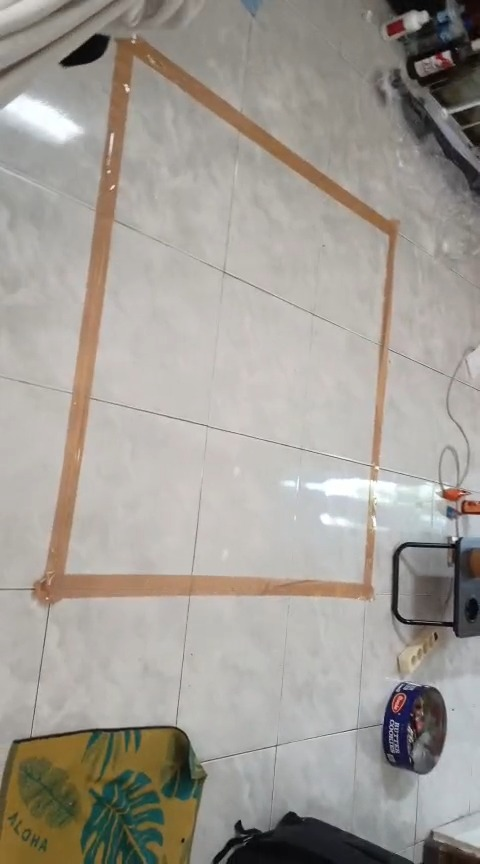floor marking: (34, 40, 397, 604)
